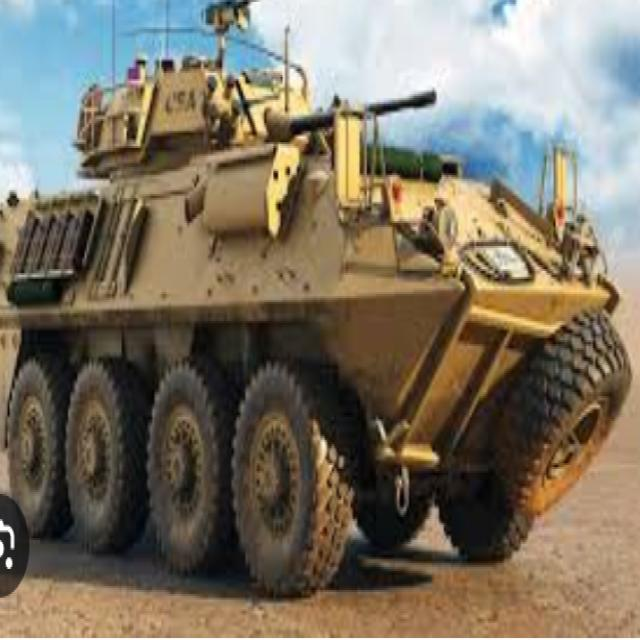MIL_APC: (13, 51, 632, 568)
